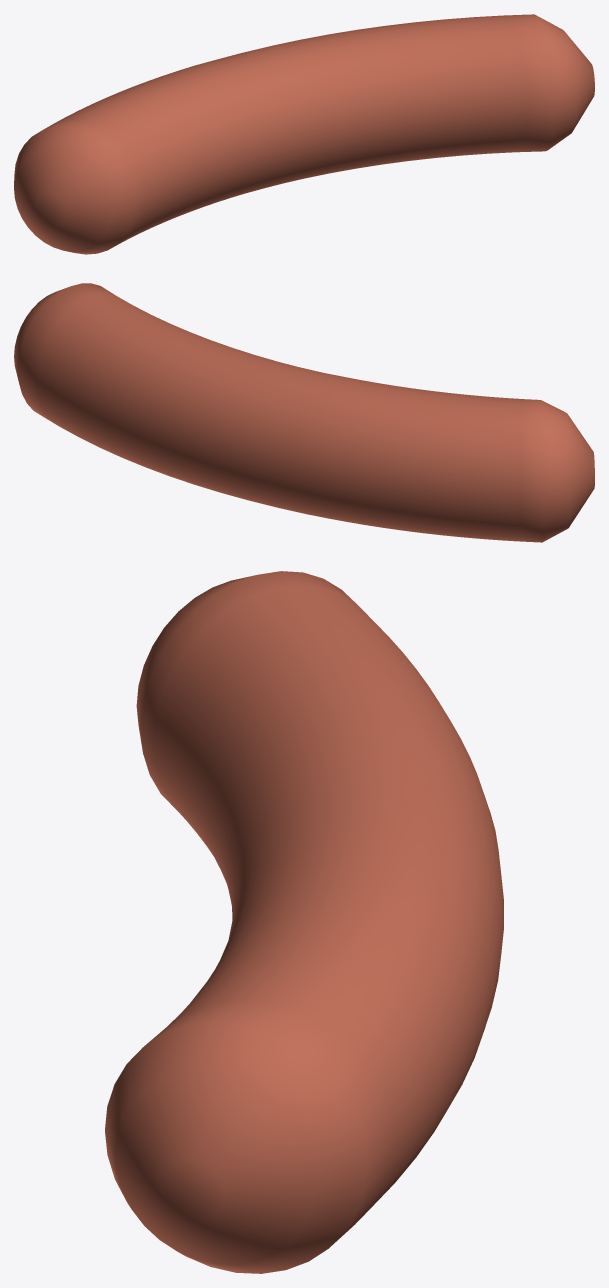
The model's file is Sausage-Lowpoly.fbx.
3 renders of one model, top to bottom at view 1: azimuth 30°, elevation 25°; view 2: azimuth 150°, elevation 25°; view 3: azimuth 270°, elevation 25°, orthographic. The views are drawn at different scales.
Parts seen in each view (by area): view 1: sausage; view 2: sausage; view 3: sausage.
Boxes of the visible parts, x1,y1,x2,y2 form: sausage: (14,14,594,254); sausage: (14,283,594,542); sausage: (105,571,503,1273).
Bounding box in the file's own units: 81.87 × 17.71 × 25.65.
